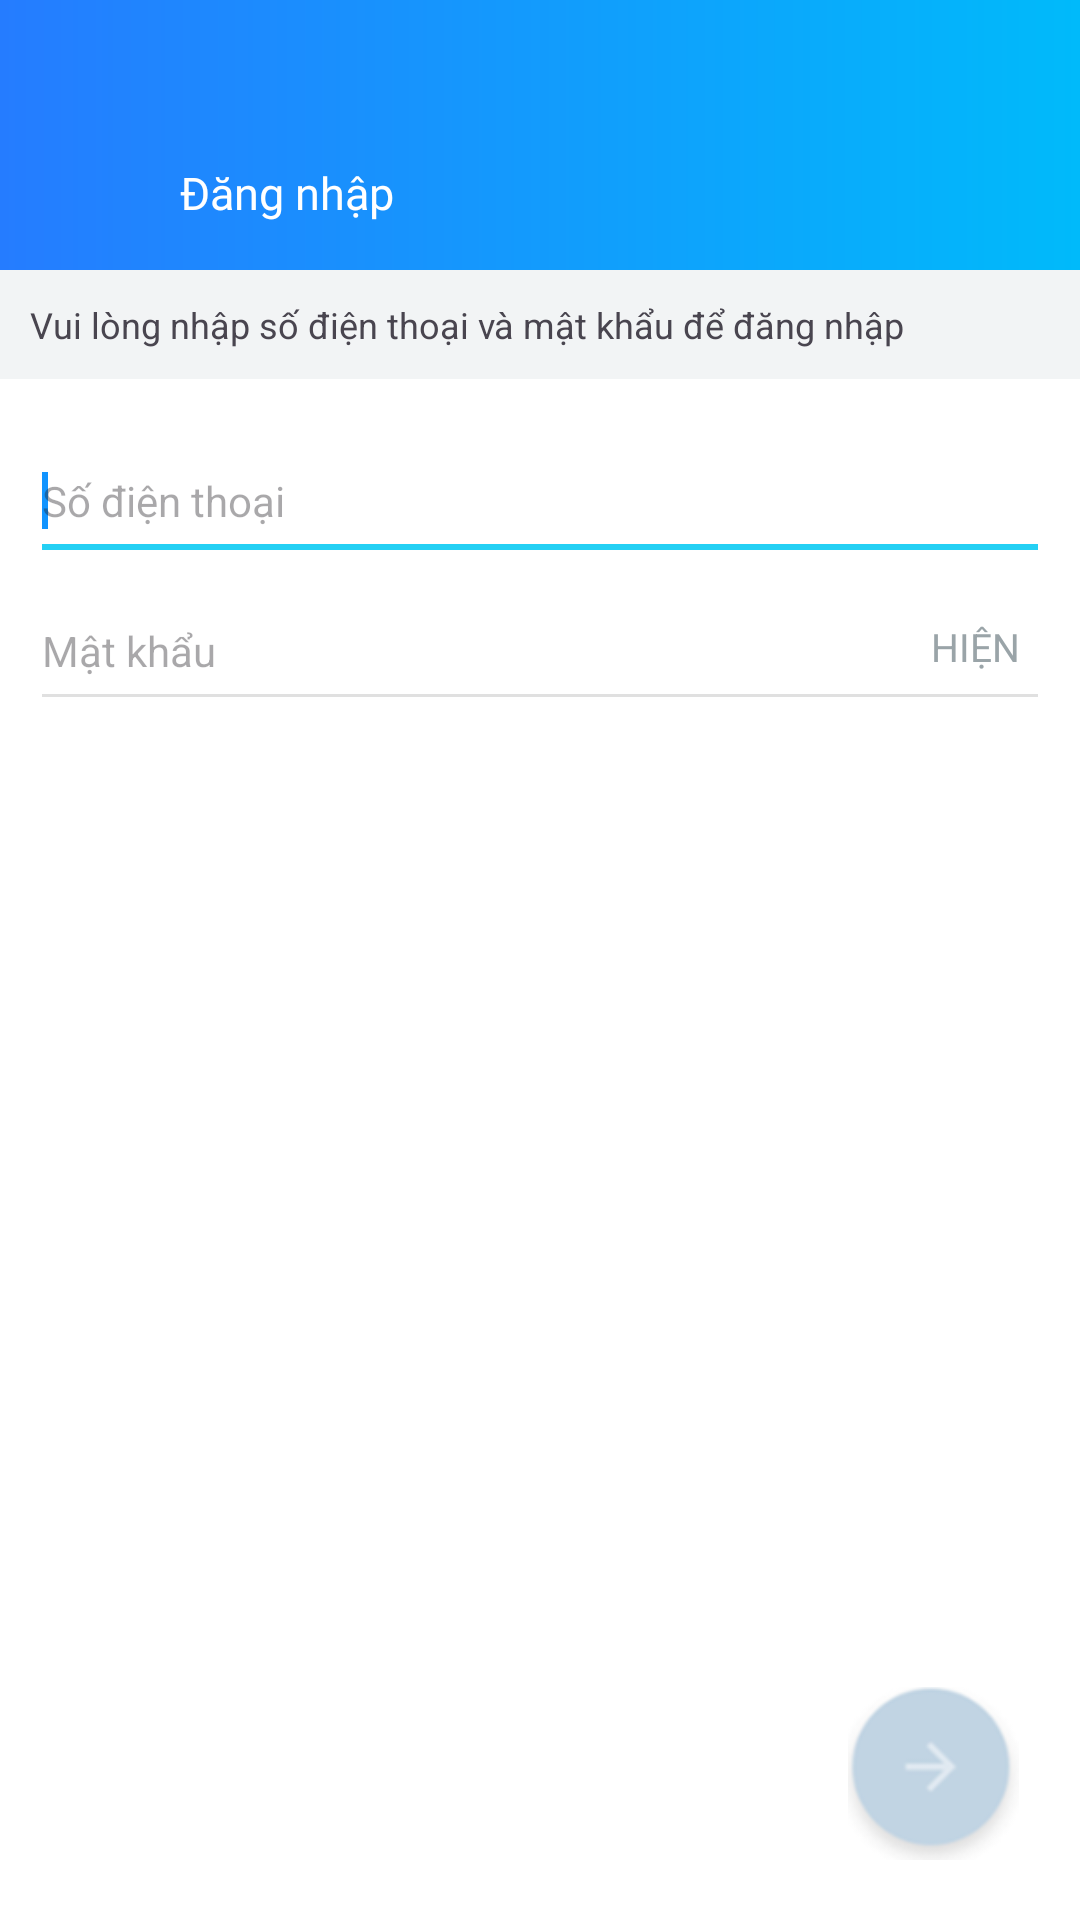

Where to tap for icons on this 1080px x 1920px app screen, as [x,y]:
next: [930,1769]
